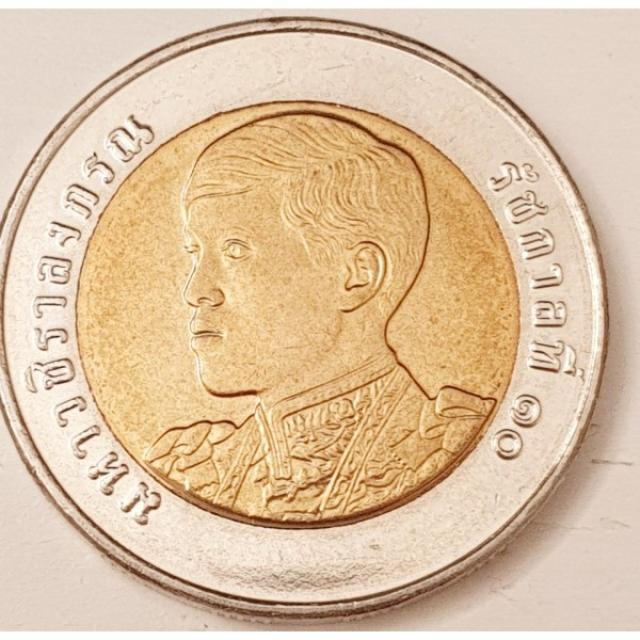10 Bath: (1, 18, 615, 623)
